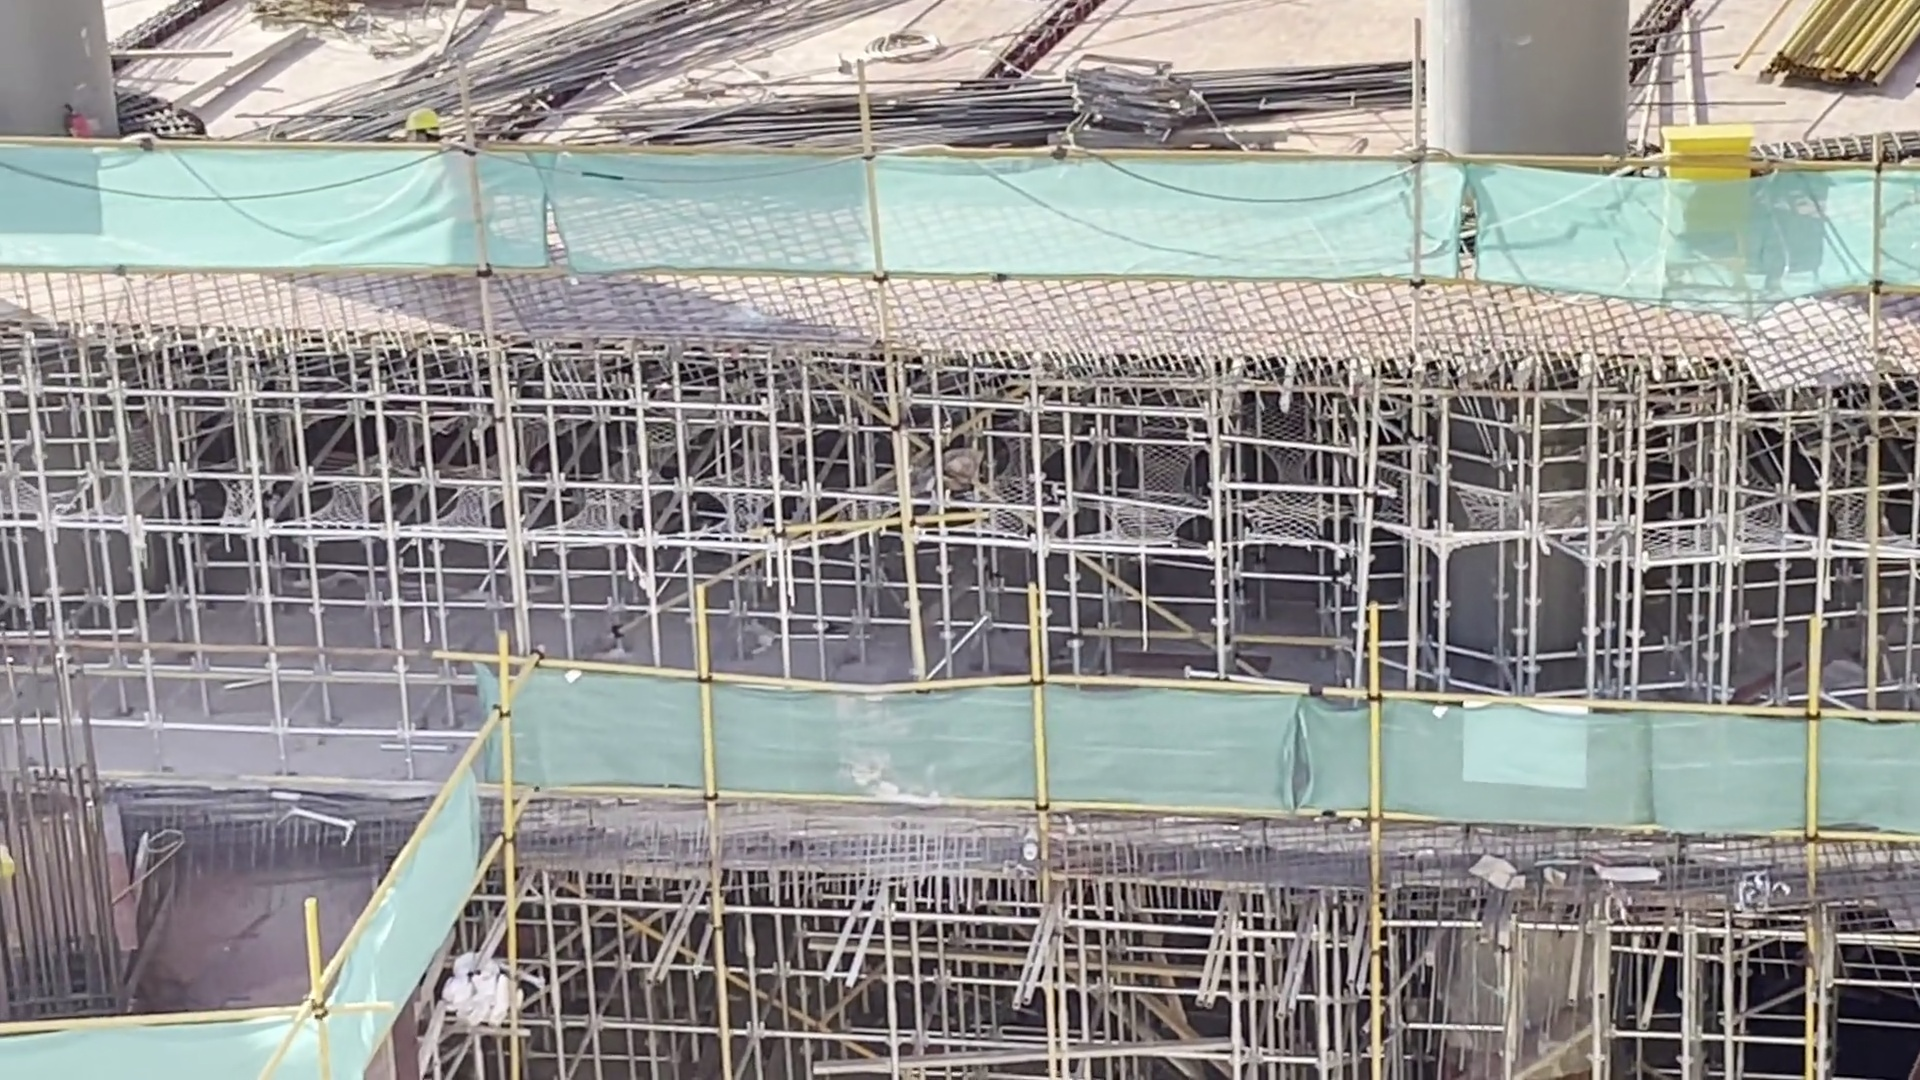ebox: (1644, 120, 1755, 261)
